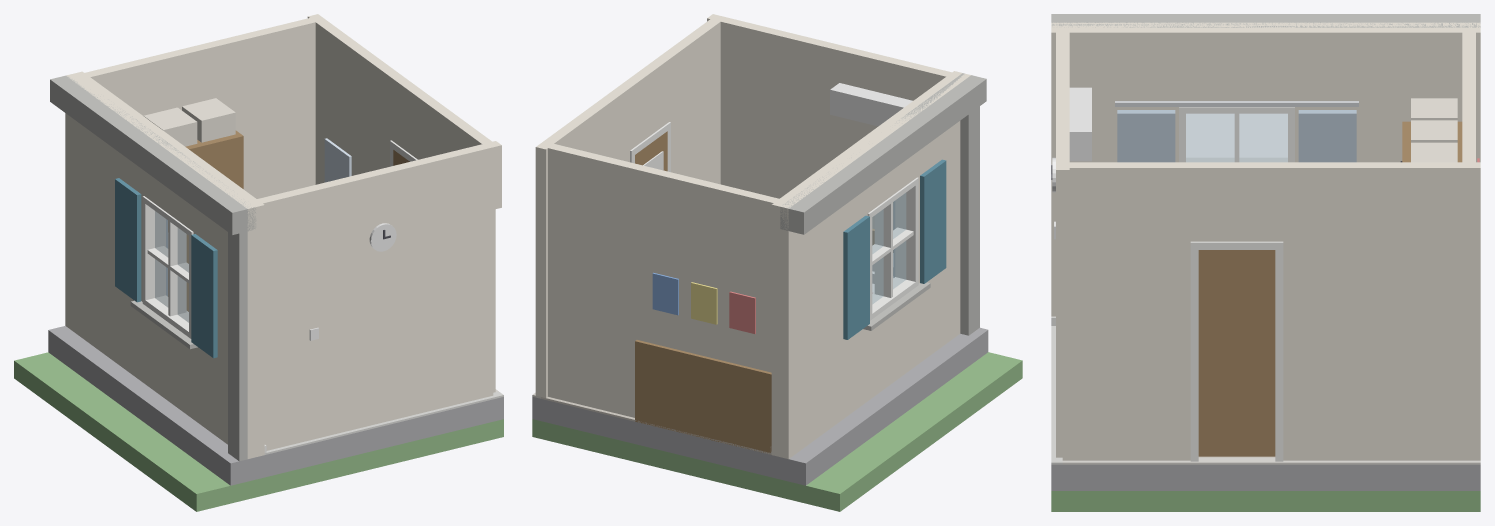
Rendered from tube_bed1.glb.
3 renders of one model, left to right at view 1: azimuth 30°, elevation 25°; view 2: azimuth 150°, elevation 25°; view 3: azimuth 270°, elevation 25°, orthographic. The views are drawn at different scales.
Visible parts, largest first — view 1: wall, grass, foundation, concrete, door, trim, cabinet, wood, glass, floor_tile, mirror, stone (+1 smaller); view 2: wall, grass, foundation, concrete, wood, door, trim, white, glass, cloth3, cloth2, cloth1 (+2 smaller); view 3: wall, wood, foundation, grass, trim, curtain_cool, concrete, glass, cabinet, floor_corridor, white, metal (+1 smaller).
Part boxes in pixels (x1,y1,x2,y2): wall: (65, 14, 501, 458); grass: (14, 352, 503, 511); foundation: (48, 326, 503, 485); concrete: (50, 75, 256, 461); door: (115, 178, 217, 358); trim: (142, 140, 417, 453); cabinet: (144, 98, 235, 146); wood: (168, 130, 409, 311); glass: (155, 211, 188, 322); floor_tile: (264, 391, 503, 454); mirror: (324, 138, 351, 182); stone: (130, 300, 197, 349); wall: (535, 14, 970, 459); grass: (532, 352, 1022, 511); foundation: (532, 327, 988, 485); concrete: (780, 73, 986, 335); wood: (635, 131, 893, 453); door: (843, 159, 946, 339); trim: (630, 122, 918, 453); white: (830, 83, 912, 292); glass: (872, 193, 905, 303); cloth3: (691, 202, 893, 324); cloth2: (652, 272, 678, 315); cloth1: (729, 291, 755, 333); wall: (1051, 22, 1480, 460); wood: (1198, 121, 1462, 456); foundation: (1051, 464, 1480, 490); grass: (1051, 491, 1480, 511); trim: (1051, 107, 1294, 461); curtain_cool: (1117, 110, 1356, 162); concrete: (1051, 14, 1480, 27); glass: (1186, 114, 1287, 161); cabinet: (1411, 98, 1457, 162); floor_corridor: (1062, 457, 1480, 464); white: (1052, 87, 1091, 239); metal: (1115, 101, 1358, 106).
Size of the model in its own units: 3.6 by 3.25 by 3.7.
